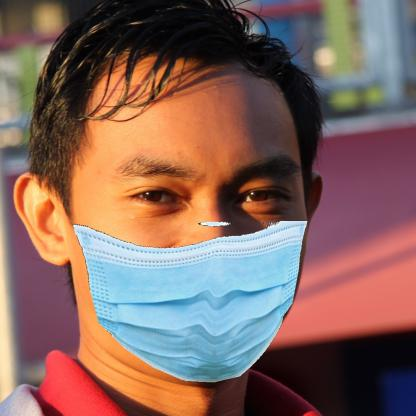Correctly_Masked: (71, 79, 308, 386)
